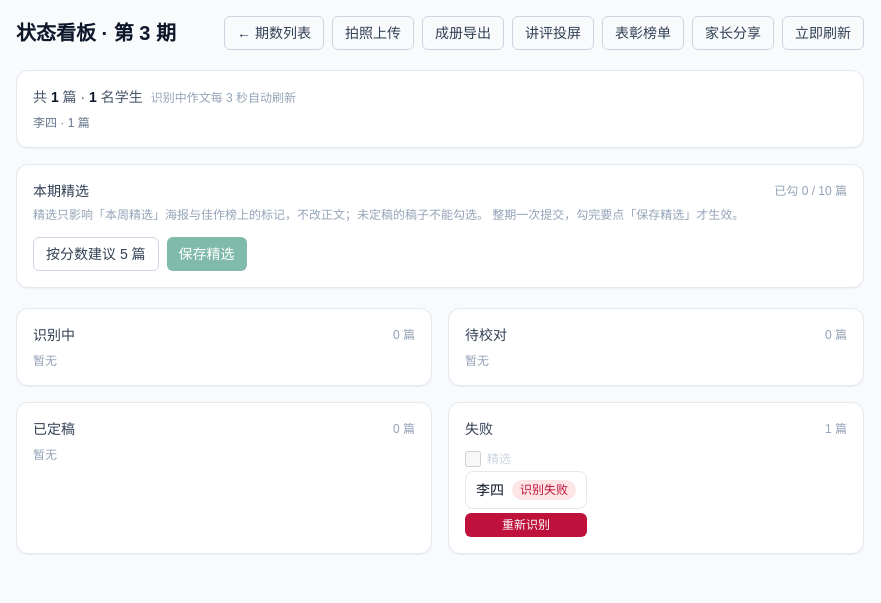
Test: EssayListPage › offers a retry entry for failed essays on the board
Expected: the text "识别失败" is shown, [512, 480, 576, 500]
Click the button with test id "board-retry-2": [526, 525] box [465, 513, 587, 537]
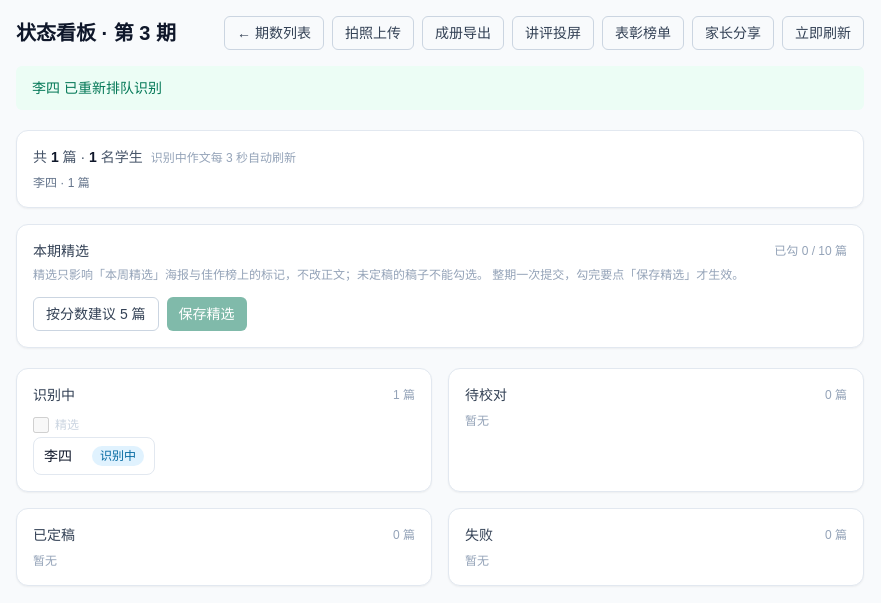
Expected: the text "李四" is shown, [44, 446, 72, 466]
Expected: the text with test id "board-retry-notice" reads "李四 已重新排队识别", [32, 80, 162, 96]
Expected: the button with test id "board-retry-2" is gone
